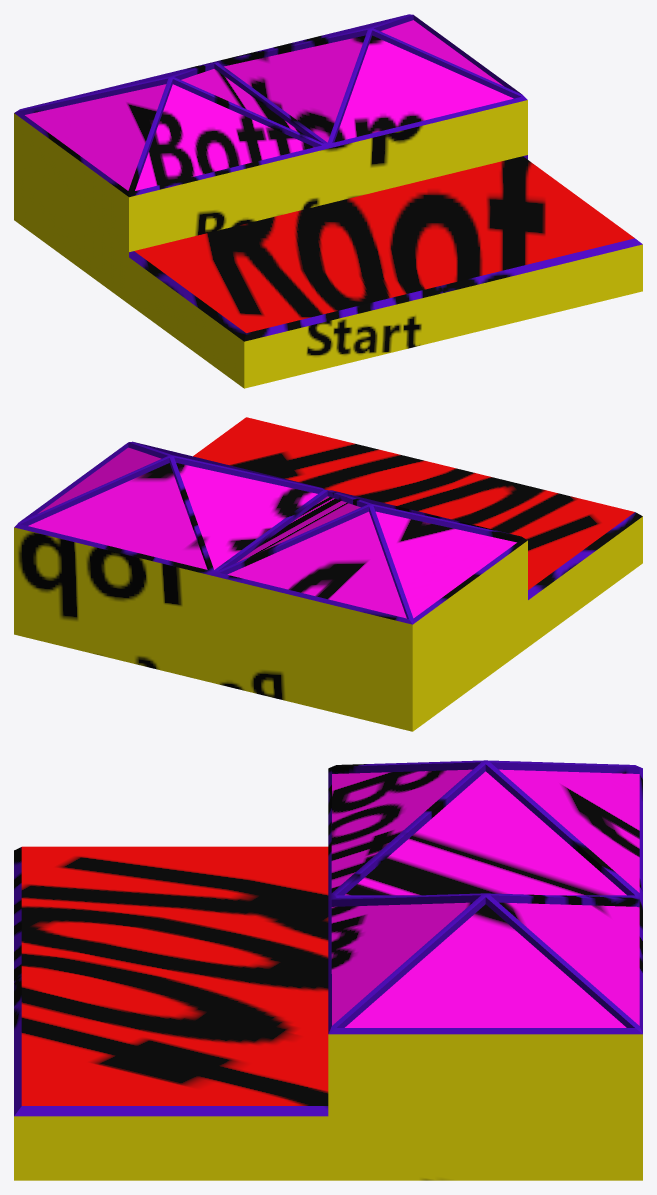
File: ENV_Roof_ThreeXThree_TypeThree.fbx
The picture shows the model from 3 angles, top to bottom: view 1: azimuth 30°, elevation 25°; view 2: azimuth 150°, elevation 25°; view 3: azimuth 270°, elevation 25°; orthographic projection. The views are drawn at different scales.
Visible parts, largest first — view 1: x3RoofTypeThree1:ThreeXThreeRoofThree; view 2: x3RoofTypeThree1:ThreeXThreeRoofThree; view 3: x3RoofTypeThree1:ThreeXThreeRoofThree.
Part boxes in pixels (x1,y1,x2,y2): x3RoofTypeThree1:ThreeXThreeRoofThree: (14,14,642,388); x3RoofTypeThree1:ThreeXThreeRoofThree: (14,417,642,731); x3RoofTypeThree1:ThreeXThreeRoofThree: (14,760,642,1180).
Size of the model in its own units: 36 by 13.82 by 36.
